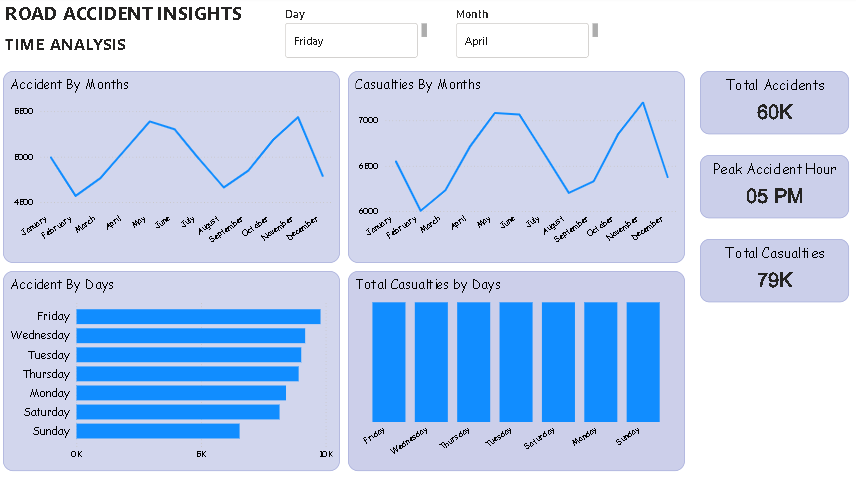

The dashboard page shown, as its layout file describes it:
{"tool":"powerbi","page":{"name":"Page 2","canvas":[1280,720],"ordinal":1},"visuals":[{"type":"textbox","box":[10,0,726.2,47.5],"z":0},{"type":"textbox","box":[10.4,48.3,274.3,48.3],"z":1000},{"type":"card","title":"Total Accidents","fields":{"Values":["Accident Data Analysis.Total Accidents"]},"box":[1035.9,110.2,218.9,92.6],"z":2000},{"type":"card","title":"Total Casualties","fields":{"Values":["Sum(Accident Data Analysis.Number_of_Casualties)"]},"box":[1035.9,357.1,218.9,92.6],"z":3000},{"type":"card","title":"Peak Accident Hour","fields":{"Values":["Accident Data Analysis.Peak Accident Hour Text"]},"box":[1035.9,233.6,218.9,92.6],"z":4000},{"type":"lineChart","title":"Accident By Months","fields":{"Category":["Accident Data Analysis.Date.Variation.Date Hierarchy.Month"],"Y":["Accident Data Analysis.Total Accidents"]},"box":[11.8,110.2,495.2,282.1],"z":5000},{"type":"lineChart","title":"Casualties By Months","fields":{"Category":["Accident Data Analysis.Date.Variation.Date Hierarchy.Month"],"Y":["Accident Data Analysis.Total Casualties"]},"box":[518.7,110.2,495.2,282.1],"z":6000},{"type":"clusteredBarChart","title":"Accident By Days","fields":{"Category":["Accident Data Analysis.Day Name"],"Y":["Accident Data Analysis.Total Accidents"]},"box":[11.8,404.1,495.2,293.9],"z":7000},{"type":"hundredPercentStackedColumnChart","title":"Total Casualties by Days","fields":{"Category":["Accident Data Analysis.Day Name"],"Y":["Accident Data Analysis.Total Casualties"]},"box":[518.7,404.1,495.2,293.9],"z":8000},{"type":"advancedSlicerVisual","title":"Day ","fields":{"Values":["Accident Data Analysis.Day Name"]},"box":[421.7,16.2,218.9,80.8],"z":8001},{"type":"advancedSlicerVisual","title":"Month","fields":{"Values":["Accident Data Analysis.Month"]},"box":[673,16.2,218.9,80.8],"z":8002},{"type":"qnaVisual","box":[1035.9,449.6,218.9,248.3],"z":8003}]}

Visuals, with their boxes in screenshot pixels (x1, y1, x2, y2), scaled from the page's 1280x720 canvas onto the 856x477 screenshot:
textbox: (7,0,492,31)
textbox: (7,32,190,64)
"Total Accidents" card: (693,73,839,134)
"Total Casualties" card: (693,237,839,298)
"Peak Accident Hour" card: (693,155,839,216)
"Accident By Months" lineChart: (8,73,339,260)
"Casualties By Months" lineChart: (347,73,678,260)
"Accident By Days" clusteredBarChart: (8,268,339,462)
"Total Casualties by Days" hundredPercentStackedColumnChart: (347,268,678,462)
"Day " advancedSlicerVisual: (282,11,428,64)
"Month" advancedSlicerVisual: (450,11,596,64)
qnaVisual: (693,298,839,462)
